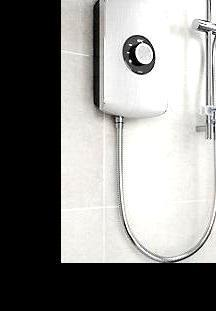Ducha: (61, 0, 216, 262)
